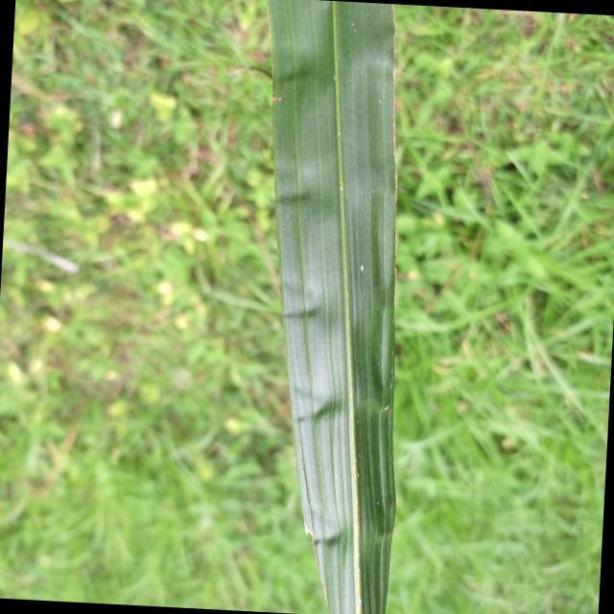Boron: (265, 0, 400, 614)
